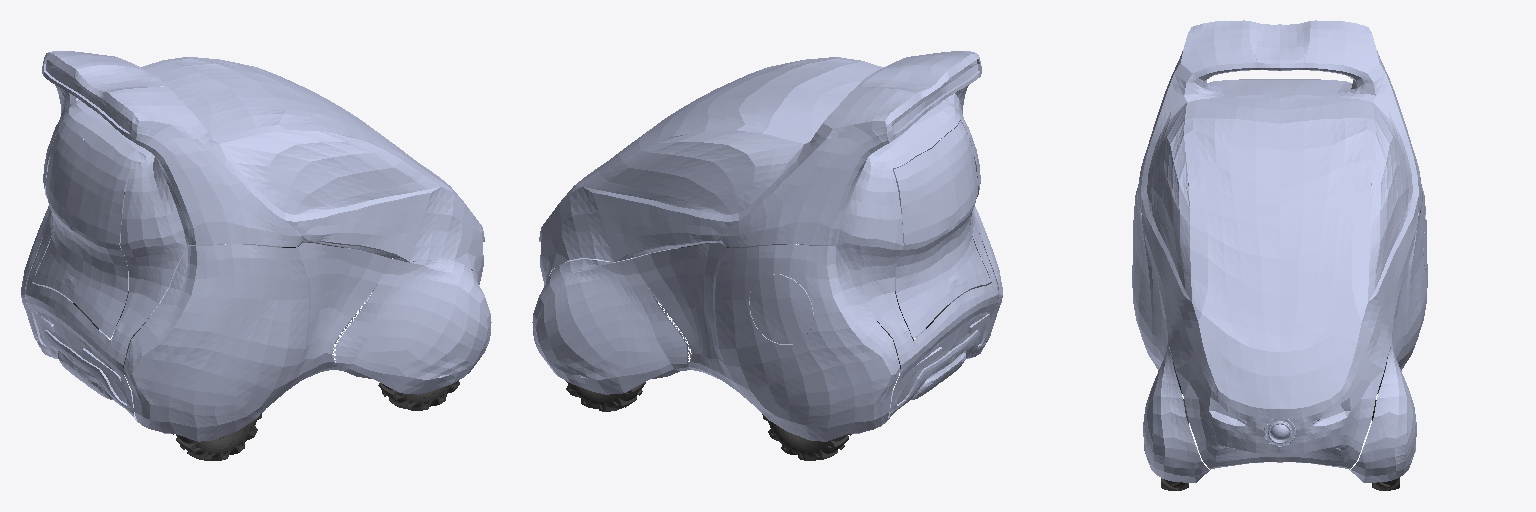
The robot description file, URDF, robot "patrol_v3":
<?xml version="1.0" encoding="utf-8"?>
<!-- This URDF was automatically created by SolidWorks to URDF Exporter! Originally created by [author] ([email redacted]) 
     Commit Version: 1.5.1-0-g916b5db  Build Version: 1.5.7152.31018
     For more information, please see http://wiki.ros.org/sw_urdf_exporter -->
<robot
  name="patrol_v3">
  <link  name="base_link" />


  <link
    name="chassis">
    <inertial>
      <origin
        xyz="-0.05588 -0.021836 0.11979"
        rpy="0 0 0" />
      <mass
        value="60" />
      <inertia
        ixx="0.2844"
        ixy="0.00042222"
        ixz="0.045634"
        iyy="0.36594"
        iyz="-0.000122"
        izz="0.4528" />
    </inertial>
    <visual>
      <origin
        xyz="0 0 0"
        rpy="0 0 0" />
      <geometry>
        <mesh
          filename="package://patrol_v3/meshes/chassis.STL" />
      </geometry>
      <material
        name="">
        <color
          rgba="0.79216 0.81961 0.93333 1" />
      </material>
    </visual>
    <collision>
      <origin
        xyz="0 0 0"
        rpy="0 0 0" />
      <geometry>
        <mesh
          filename="package://patrol_v3/meshes/chassis.STL" />
      </geometry>
    </collision>
  </link>

  <joint
    name="Jchassis"
    type="fixed">
    <origin
      xyz="0 0 0.2500"
      rpy="0 0 0" />
    <parent
      link="base_link" />
    <child
      link="chassis" />
    <axis
      xyz="0 0 0" />
  </joint>

  <link
    name="FL">
    <inertial>
      <origin
        xyz="-3.5376E-06 4.1624E-06 -0.041529"
        rpy="0 0 0" />
      <mass
        value="1.1763" />
      <inertia
        ixx="0.0072471"
        ixy="2.8453E-07"
        ixz="1.5822E-07"
        iyy="0.0072464"
        iyz="-6.4823E-07"
        izz="0.012903" />
    </inertial>
    <visual>
      <origin
        xyz="0 0 0"
        rpy="0 0 0" />
      <geometry>
        <mesh
          filename="package://patrol_v3/meshes/FL.STL" />
      </geometry>
      <material
        name="">
        <color
          rgba="0.29804 0.29804 0.29804 1" />
      </material>
    </visual>
    <collision>
      <origin
        xyz="0 0 0"
        rpy="0 0 0" />
      <geometry>
        <mesh
          filename="package://patrol_v3/meshes/FL.STL" />
      </geometry>
    </collision>
  </link>
  <joint
    name="FLJ"
    type="continuous">
    <origin
      xyz="0.29133 0.23565 -0.1178"
      rpy="1.5708 -1.5399 0" />
    <parent
      link="chassis" />
    <child
      link="FL" />
    <axis
      xyz="0 0 -1" />
  </joint>
  <link
    name="FR">
    <inertial>
      <origin
        xyz="-3.4705E-06 4.7858E-06 0.041533"
        rpy="0 0 0" />
      <mass
        value="1.1763" />
      <inertia
        ixx="0.0072471"
        ixy="2.854E-07"
        ixz="1.5817E-07"
        iyy="0.0072464"
        iyz="-6.4816E-07"
        izz="0.012903" />
    </inertial>
    <visual>
      <origin
        xyz="0 0 0"
        rpy="0 0 0" />
      <geometry>
        <mesh
          filename="package://patrol_v3/meshes/FR.STL" />
      </geometry>
      <material
        name="">
        <color
          rgba="0.29804 0.29804 0.29804 1" />
      </material>
    </visual>
    <collision>
      <origin
        xyz="0 0 0"
        rpy="0 0 0" />
      <geometry>
        <mesh
          filename="package://patrol_v3/meshes/FR.STL" />
      </geometry>
    </collision>
  </link>
  <joint
    name="FRJ"
    type="continuous">
    <origin
      xyz="0.29133 -0.27837 -0.1178"
      rpy="-1.5708 -0.32548 3.1416" />
    <parent
      link="chassis" />
    <child
      link="FR" />
    <axis
      xyz="0 0 -1" />
  </joint>
  <link
    name="RL">
    <inertial>
      <origin
        xyz="-3.5397E-06 4.7909E-06 -0.041529"
        rpy="0 0 0" />
      <mass
        value="1.1763" />
      <inertia
        ixx="0.0072471"
        ixy="2.8444E-07"
        ixz="1.5824E-07"
        iyy="0.0072464"
        iyz="-6.4835E-07"
        izz="0.012903" />
    </inertial>
    <visual>
      <origin
        xyz="0 0 0"
        rpy="0 0 0" />
      <geometry>
        <mesh
          filename="package://patrol_v3/meshes/RL.STL" />
      </geometry>
      <material
        name="">
        <color
          rgba="0.29804 0.29804 0.29804 1" />
      </material>
    </visual>
    <collision>
      <origin
        xyz="0 0 0"
        rpy="0 0 0" />
      <geometry>
        <mesh
          filename="package://patrol_v3/meshes/RL.STL" />
      </geometry>
    </collision>
  </link>
  <joint
    name="RLJ"
    type="continuous">
    <origin
      xyz="-0.34867 0.23181 -0.1178"
      rpy="-1.5708 -0.47562 3.1416" />
    <parent
      link="chassis" />
    <child
      link="RL" />
    <axis
      xyz="0 0 -1" />
  </joint>
  <link
    name="RR">
    <inertial>
      <origin
        xyz="-3.5816E-06 4.783E-06 0.041533"
        rpy="0 0 0" />
      <mass
        value="1.1763" />
      <inertia
        ixx="0.0072471"
        ixy="2.8396E-07"
        ixz="1.5827E-07"
        iyy="0.0072464"
        iyz="-6.4852E-07"
        izz="0.012903" />
    </inertial>
    <visual>
      <origin
        xyz="0 0 0"
        rpy="0 0 0" />
      <geometry>
        <mesh
          filename="package://patrol_v3/meshes/RR.STL" />
      </geometry>
      <material
        name="">
        <color
          rgba="0.29804 0.29804 0.29804 1" />
      </material>
    </visual>
    <collision>
      <origin
        xyz="0 0 0"
        rpy="0 0 0" />
      <geometry>
        <mesh
          filename="package://patrol_v3/meshes/RR.STL" />
      </geometry>
    </collision>
  </link>
  <joint
    name="RRJ"
    type="continuous">
    <origin
      xyz="-0.34867 -0.28222 -0.1178"
      rpy="-1.5708 0.73947 -3.1416" />
    <parent
      link="chassis" />
    <child
      link="RR" />
    <axis
      xyz="0 0 -1" />
  </joint>
</robot>

--- Render facts (derived) ---
The picture shows the robot from 3 angles, left to right: view 1: azimuth 30°, elevation 25°; view 2: azimuth 150°, elevation 25°; view 3: azimuth 270°, elevation 25°; orthographic projection.
Robot: patrol_v3 — 6 links, 5 joints (4 continuous, 1 fixed); root link base_link; default pose: all joints at 0.
Links seen in each view (by area): view 1: chassis, RR, FR; view 2: chassis, RL, FL; view 3: chassis.
Link boxes in pixels (x1,y1,x2,y2): chassis: (21,51,491,441); RR: (173,413,261,460); FR: (378,380,459,410); chassis: (532,51,1002,441); RL: (762,414,851,460); FL: (566,381,645,411); chassis: (1132,20,1427,482).
Size in the robot's own frame: 1.27 by 0.8355 by 1.06 metres.
5 mesh visuals loaded from 5 distinct referenced files (5 binary STL).
